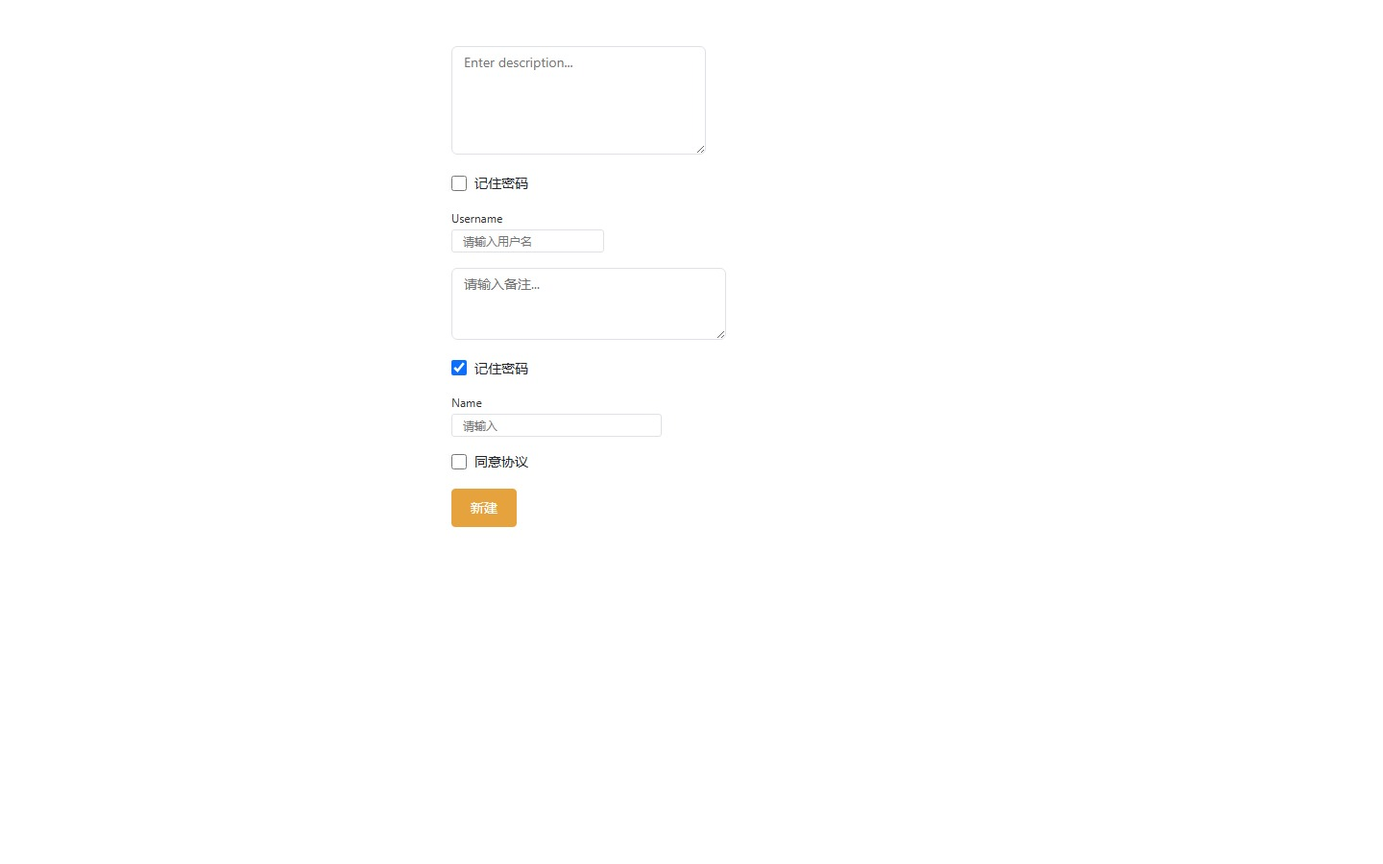button: (451, 488, 517, 527)
checkbox: (451, 175, 467, 191), (451, 360, 467, 375), (451, 454, 467, 469)
icon: (474, 174, 528, 192), (474, 359, 528, 377), (474, 452, 528, 470)
input: (451, 414, 662, 437), (451, 229, 604, 252)
radio: (451, 174, 528, 192), (451, 359, 528, 377), (451, 452, 528, 470)
textarea: (451, 46, 706, 155), (451, 267, 726, 339)
